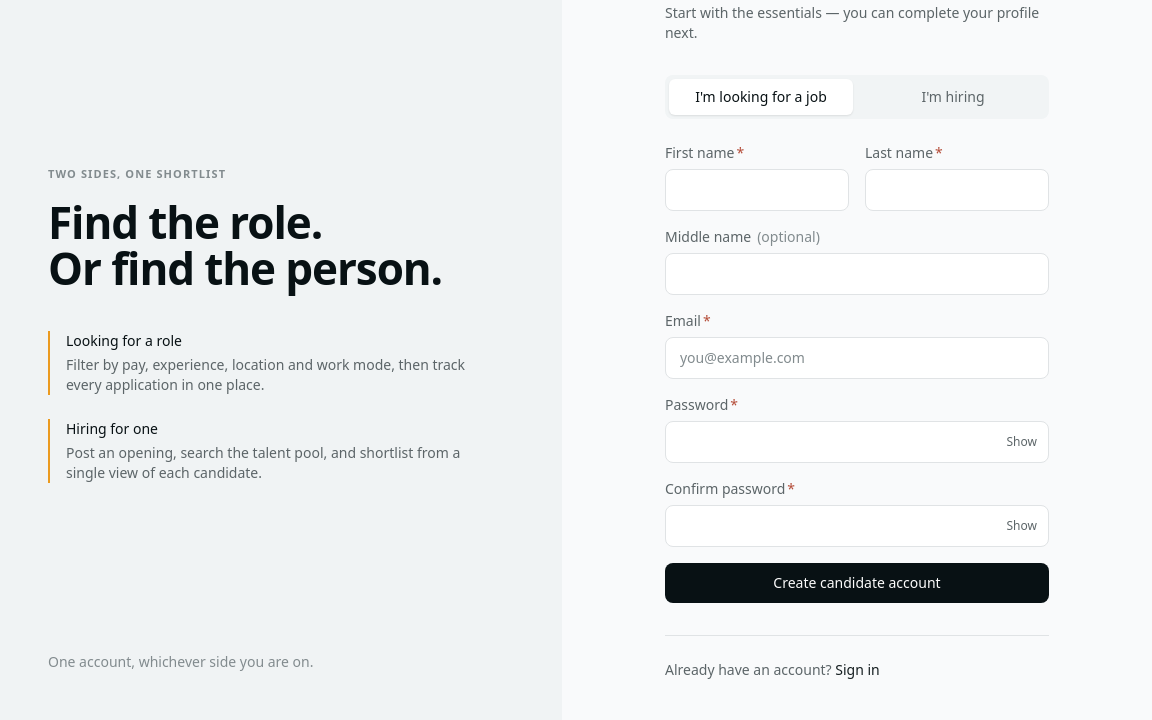
Scenario: sign-up screen › links back to sign in
This screenshot has width=1152, height=720.
(page scrolled)
Click the link "Sign in". click: (858, 670)
box: [835,660,880,679]
(page scrolled)
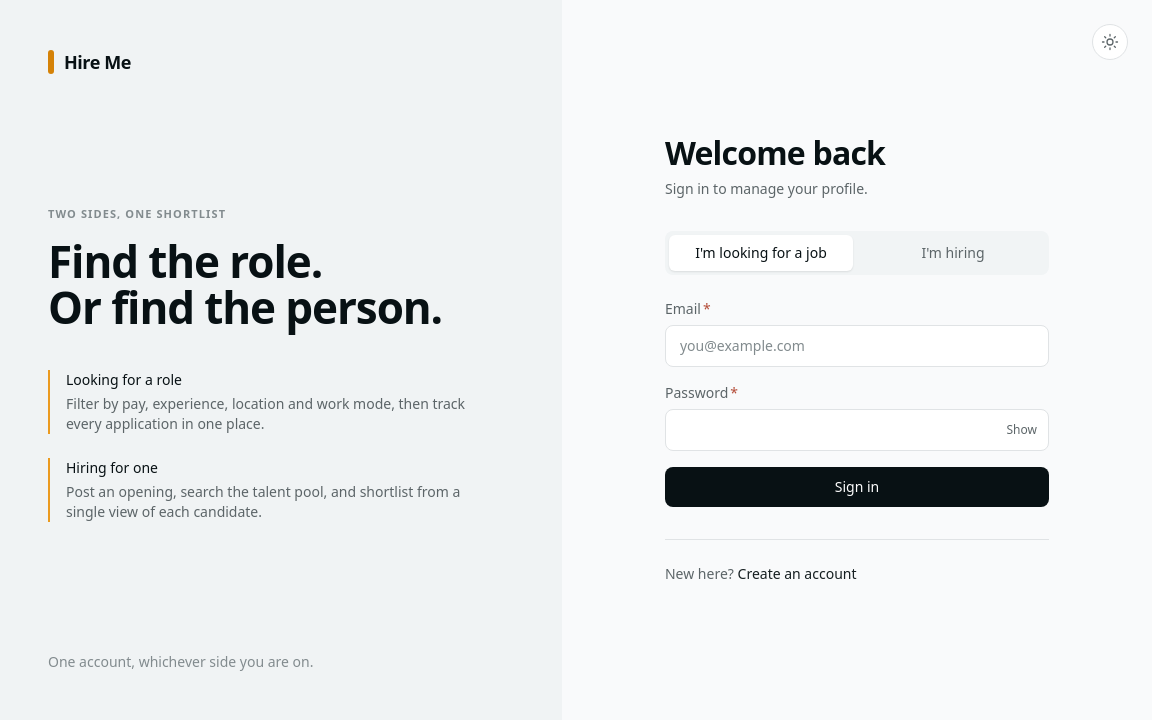
Result: the heading "Welcome back" is shown at [665,130,885,174]
